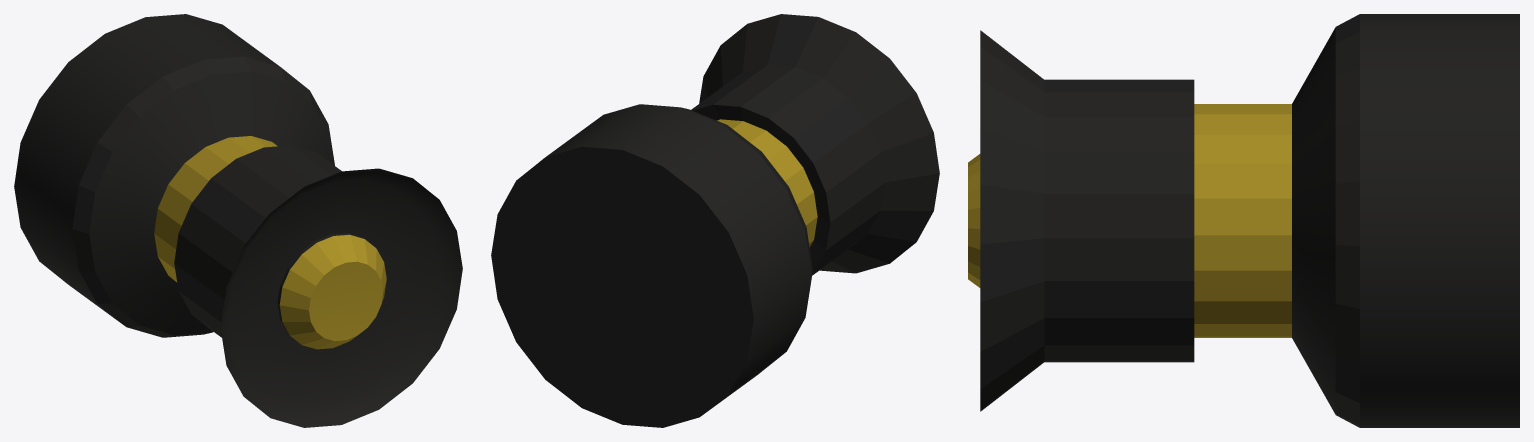
File: firehose nozzle.fbx
3 renders of one model, left to right at view 1: azimuth 30°, elevation 25°; view 2: azimuth 150°, elevation 25°; view 3: azimuth 270°, elevation 25°, orthographic. The views are drawn at different scales.
Visible parts, largest first — view 1: pCylinder1; view 2: pCylinder1; view 3: pCylinder1.
Part boxes in pixels (bbox=[...]): pCylinder1: bbox=[14, 14, 462, 427]; pCylinder1: bbox=[491, 14, 939, 427]; pCylinder1: bbox=[968, 14, 1519, 427].
Bounding box in the file's own units: 2 × 2 × 2.65.
